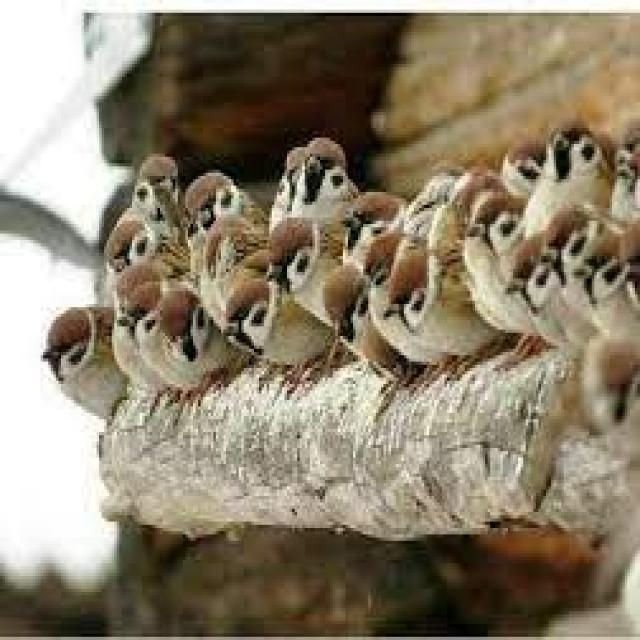bird: (386, 252, 482, 358), (536, 106, 616, 204), (584, 336, 640, 470), (228, 286, 318, 358), (268, 214, 334, 312), (541, 207, 596, 301), (162, 285, 216, 364), (294, 136, 345, 214), (339, 183, 395, 251), (612, 114, 640, 209), (619, 220, 640, 320)
